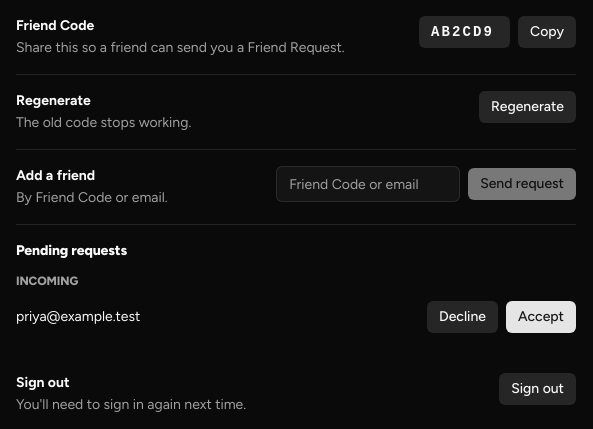
Test: Settings › accepting an incoming request removes it from the list and notifies the caller (for the Leaderboard, #15)
The width and height of the screenshot is (593, 429).
expect the text "priya@example.test" is shown: met, box [16, 308, 140, 325]
Click the button "Accept" at x=541, y=317, box [506, 301, 576, 333]
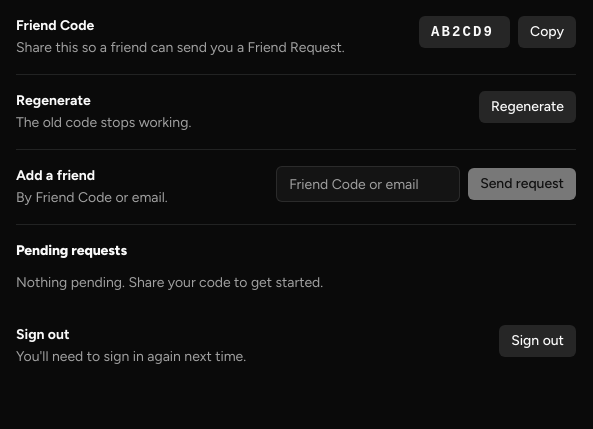
expect the text "priya@example.test" is gone: met
